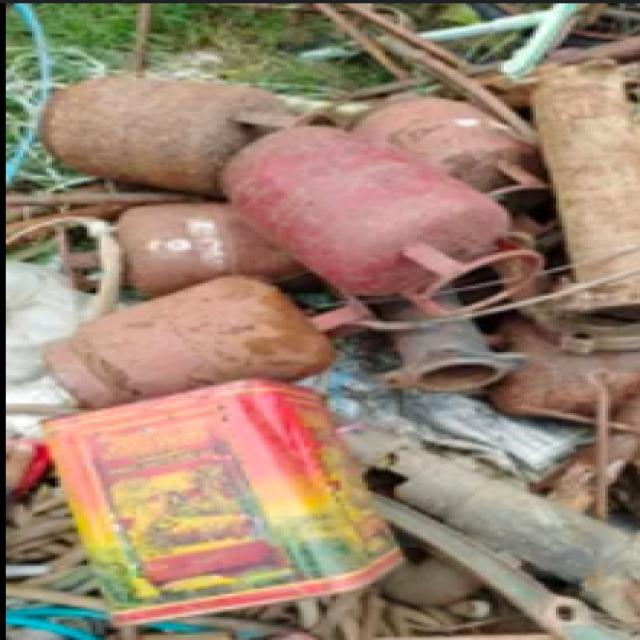cylinder: (218, 125, 545, 319), (41, 269, 378, 410)
